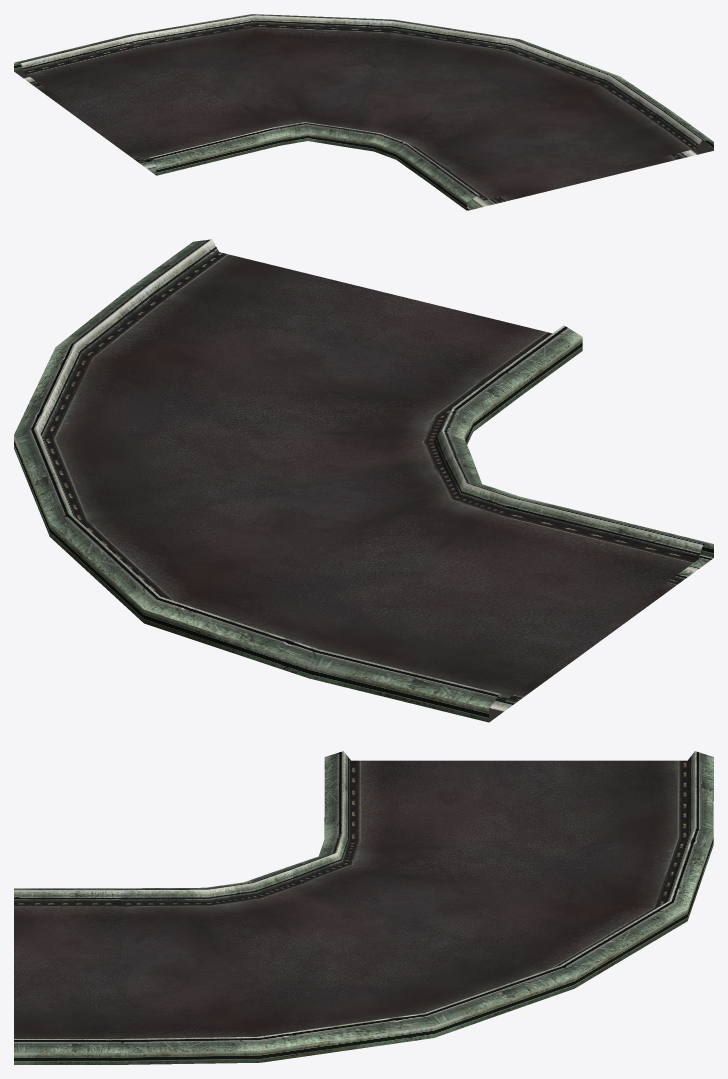
The model's file is Turn1.fbx.
3 views of the same model, one above another, from view 1: azimuth 30°, elevation 25°; view 2: azimuth 150°, elevation 25°; view 3: azimuth 270°, elevation 25° (orthographic). The views are drawn at different scales.
Visible parts, largest first — view 1: Turn_FINAL; view 2: Turn_FINAL; view 3: Turn_FINAL.
Part boxes in pixels (bbox=[...]): Turn_FINAL: bbox=[14, 14, 713, 210]; Turn_FINAL: bbox=[14, 239, 713, 722]; Turn_FINAL: bbox=[14, 751, 713, 1064].
Size of what is drawn, in the model's own units: 33.25 by 0.9472 by 33.25.
